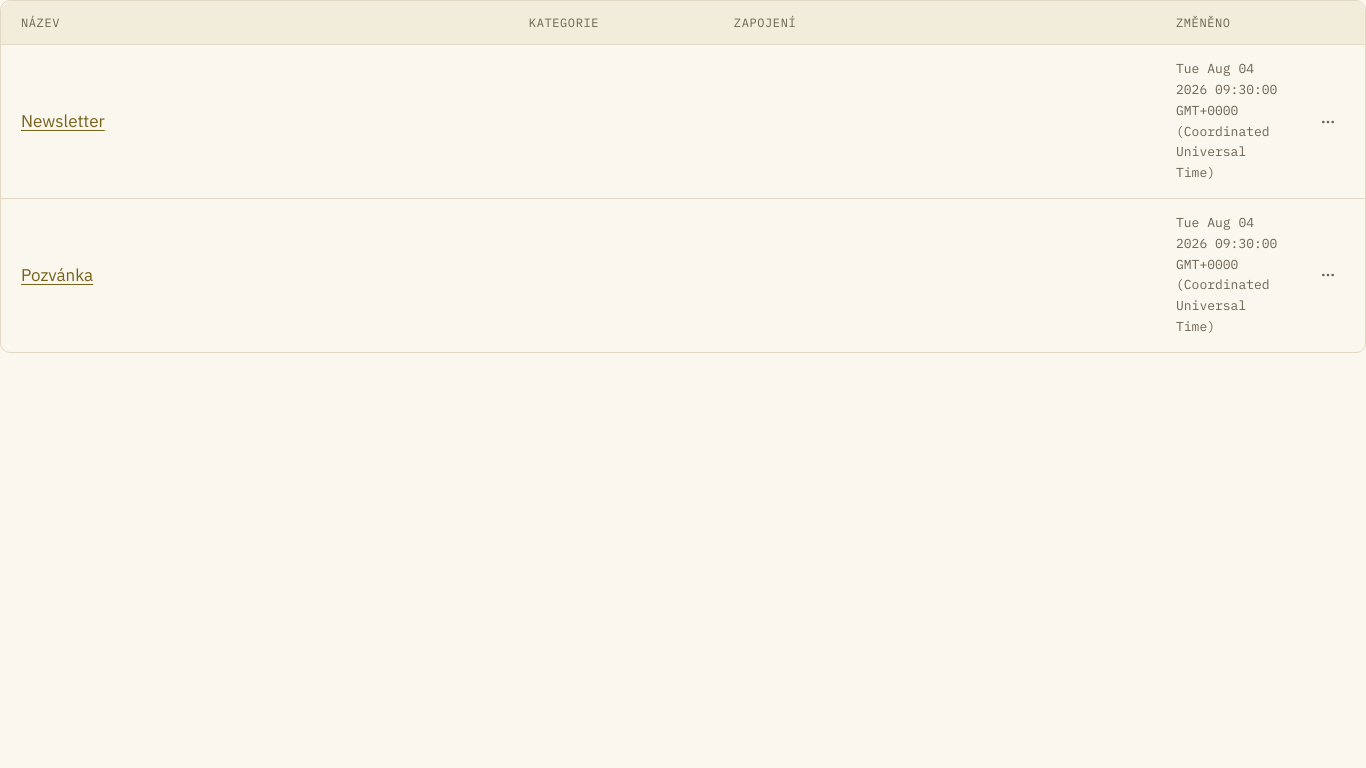
it: knihovna šablon › okno vyjmenuje následky včetně toho, že kampaně zůstanou beze změny
Click the button named "Další akce se šablonou".
click(1328, 122)  # box [1311, 105, 1345, 139]
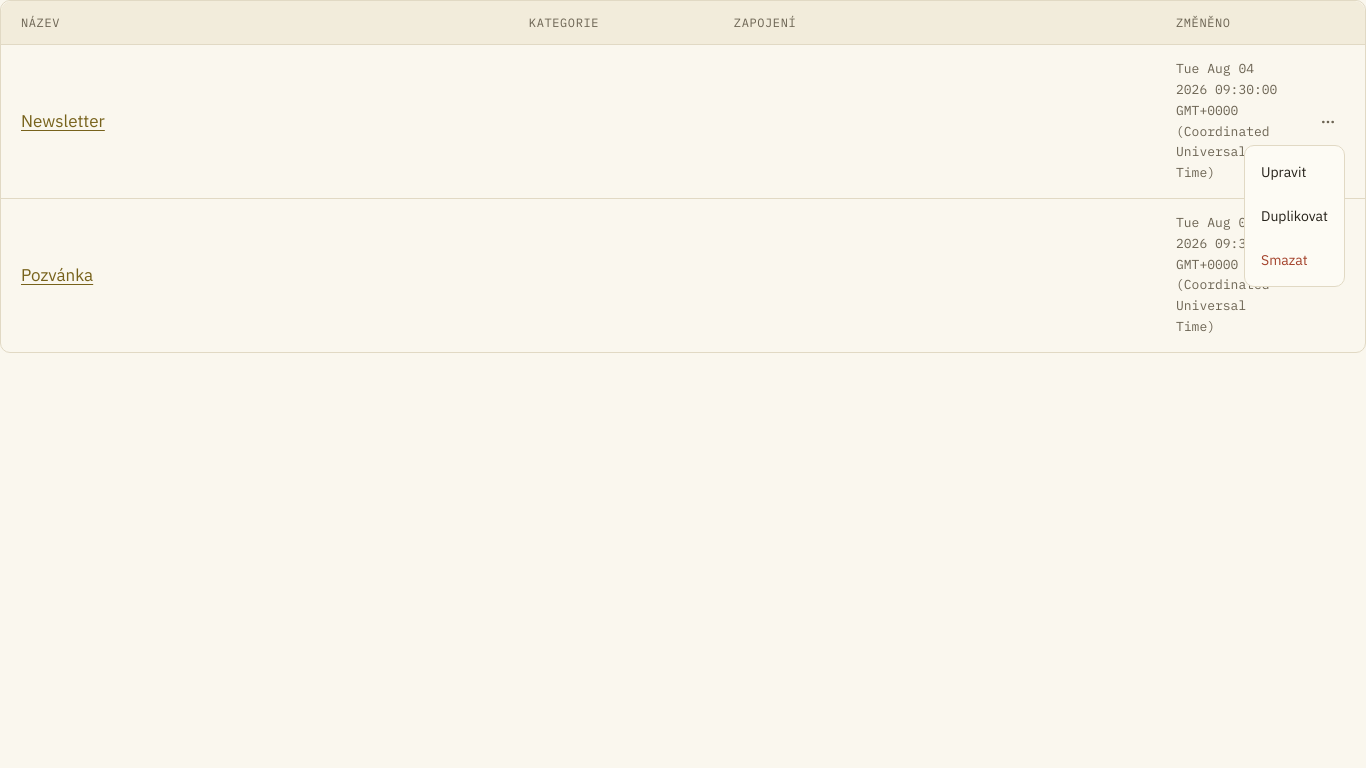
Click the menu item "Smazat".
click(1284, 260)  # box [1261, 251, 1308, 269]
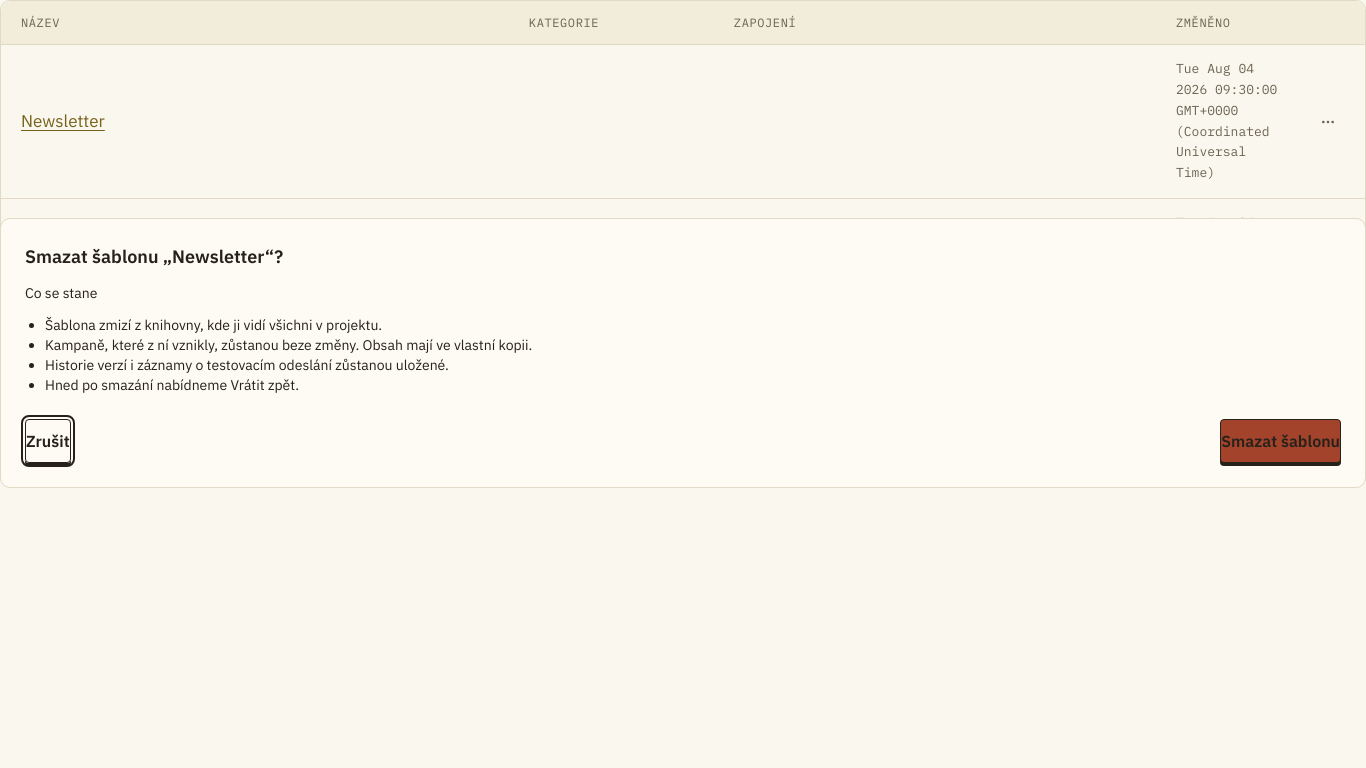
Check: the dialog is shown, box [0, 218, 1365, 488]
Check: the heading "Smazat šablonu „Newsletter“?" is shown, box [25, 245, 283, 268]
Check: the list item "Kampaně, které z ní vznikly, zůstanou beze změny" is shown, box [45, 336, 532, 354]
